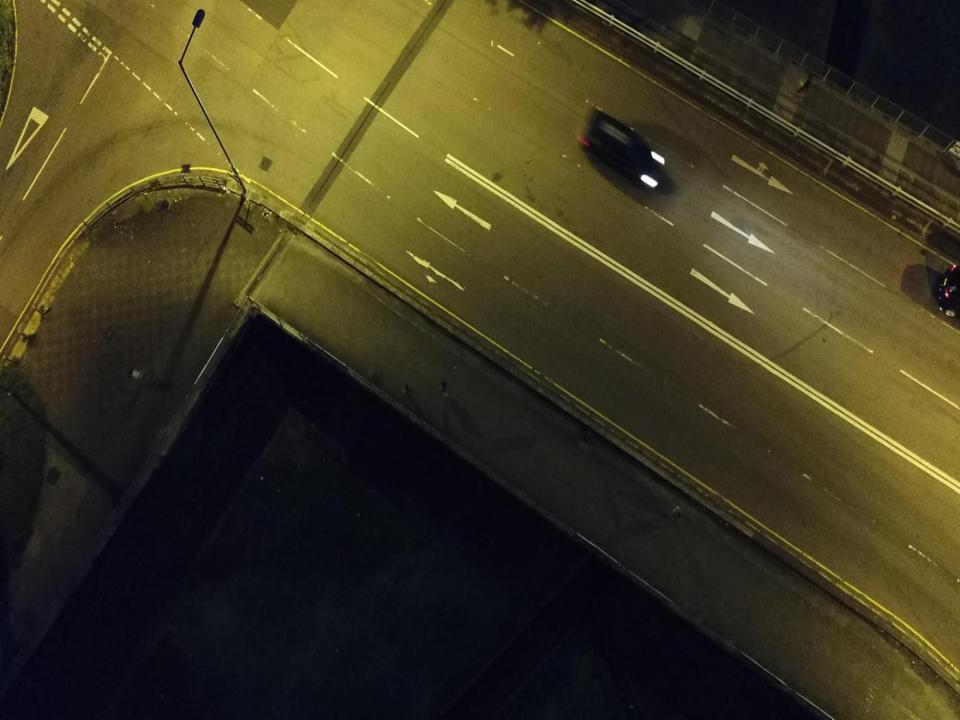car: (580, 109, 667, 193)
